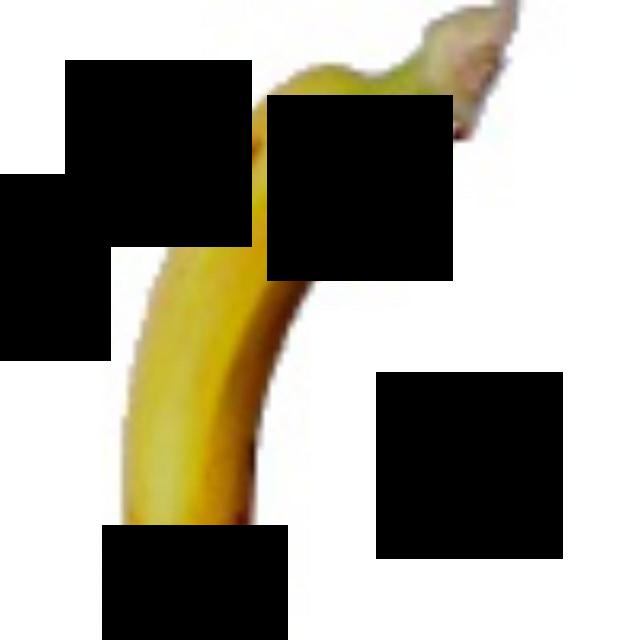banana: (0, 0, 588, 633)
